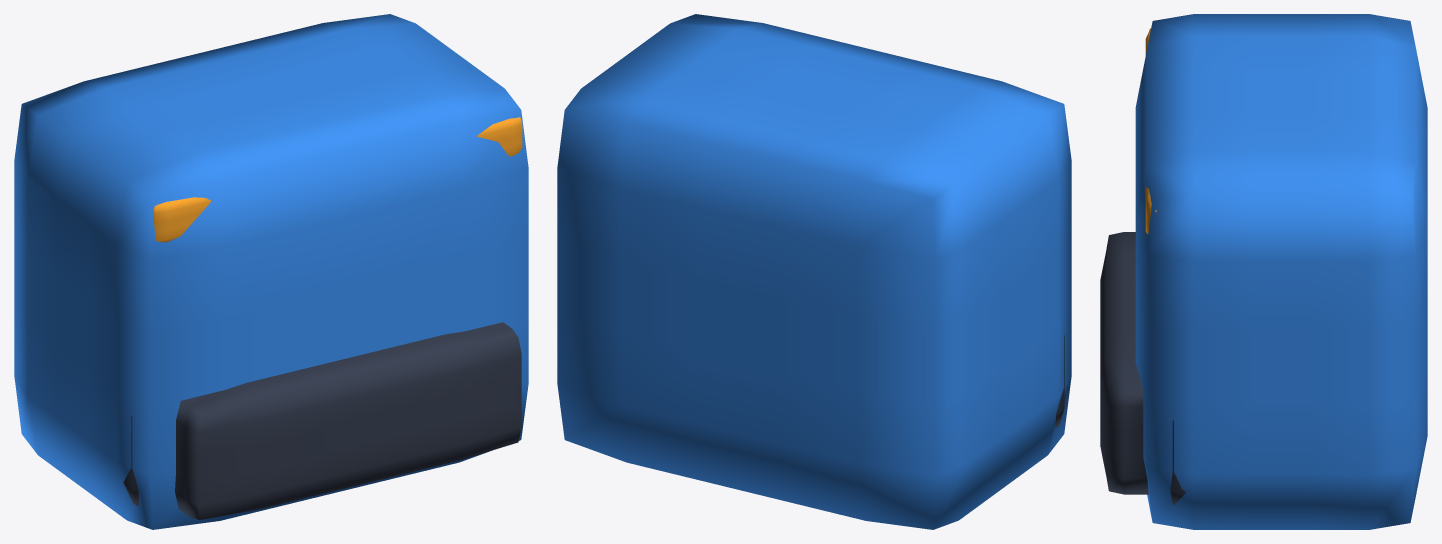
File: torso_dozer.obj
3 renders of one model, left to right at view 1: azimuth 30°, elevation 25°; view 2: azimuth 150°, elevation 25°; view 3: azimuth 270°, elevation 25°, orthographic.
Bounding box in the file's own units: 0.9 × 0.78 × 0.65.
